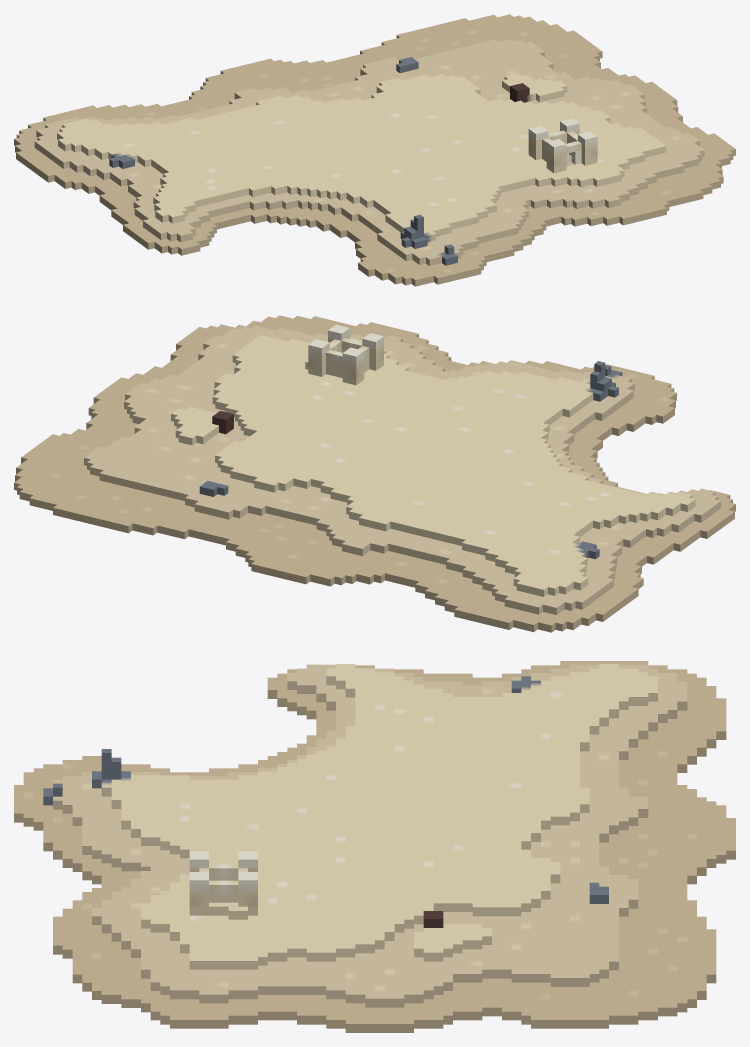
File: sandbeach.fbx
3 views of the same model, one above another, from view 1: azimuth 30°, elevation 25°; view 2: azimuth 150°, elevation 25°; view 3: azimuth 270°, elevation 25° (orthographic). The views are drawn at different scales.
Visible parts, largest first — view 1: Matrix_19; view 2: Matrix_19; view 3: Matrix_19.
Part boxes in pixels (box(x1,y1,x2,y2)): Matrix_19: box(14, 14, 735, 286); Matrix_19: box(14, 315, 735, 632); Matrix_19: box(14, 661, 735, 1032).
Bounding box in the file's own units: 88 × 7 × 74.
